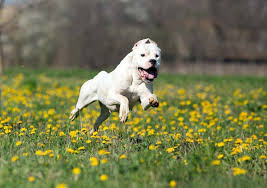dog: (58, 37, 190, 131)
